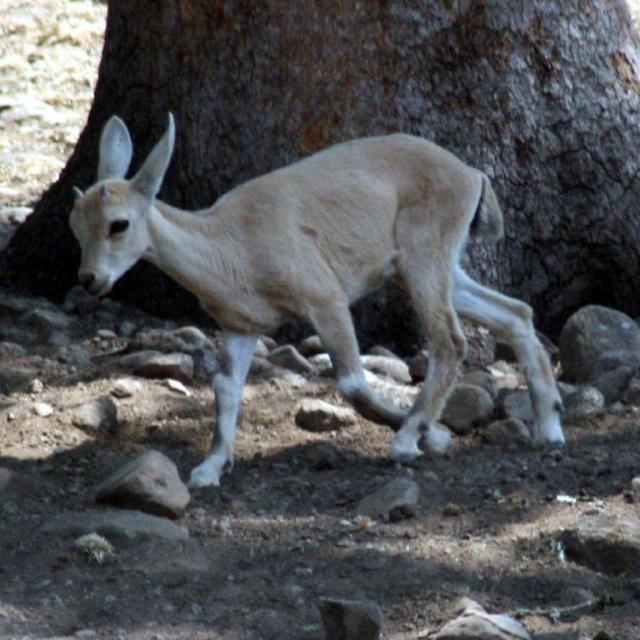Deer: (67, 110, 571, 488)
